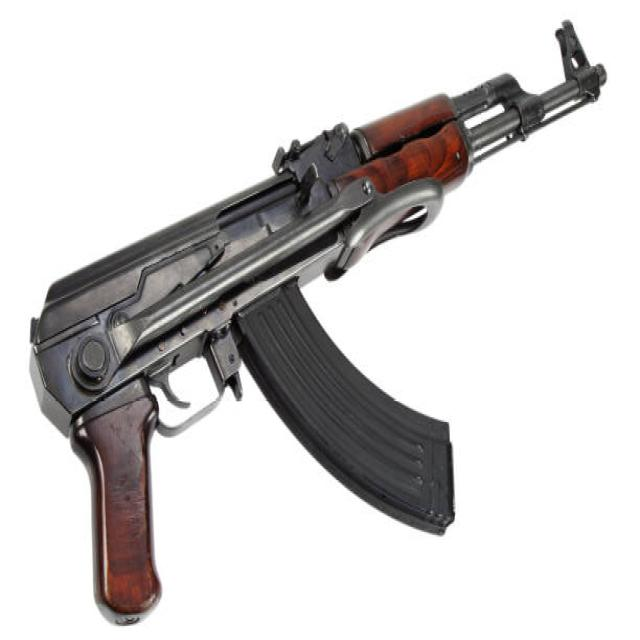rifle: (29, 19, 617, 632)
